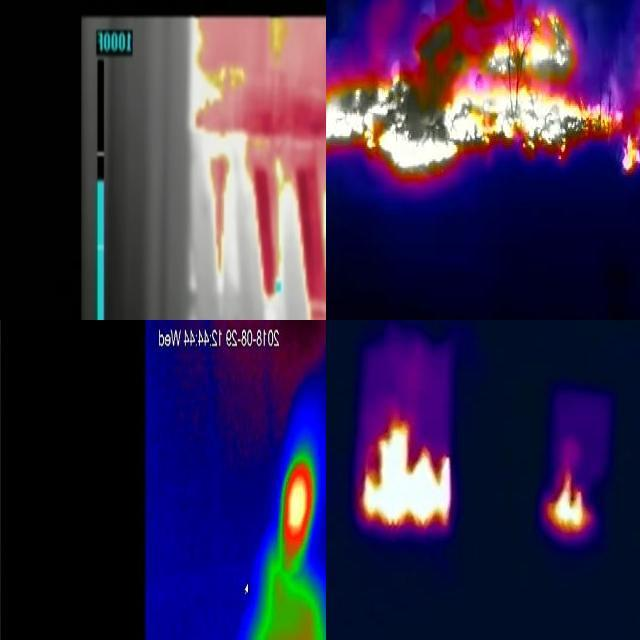fire: (327, 1, 640, 177), (185, 16, 327, 321), (358, 415, 452, 535), (278, 425, 316, 567), (546, 468, 589, 543)
